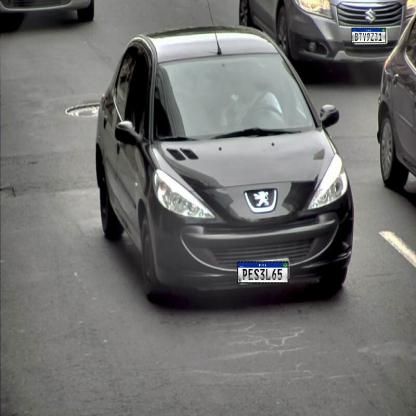PlacaM: (237, 262, 289, 284), (351, 28, 386, 43)
